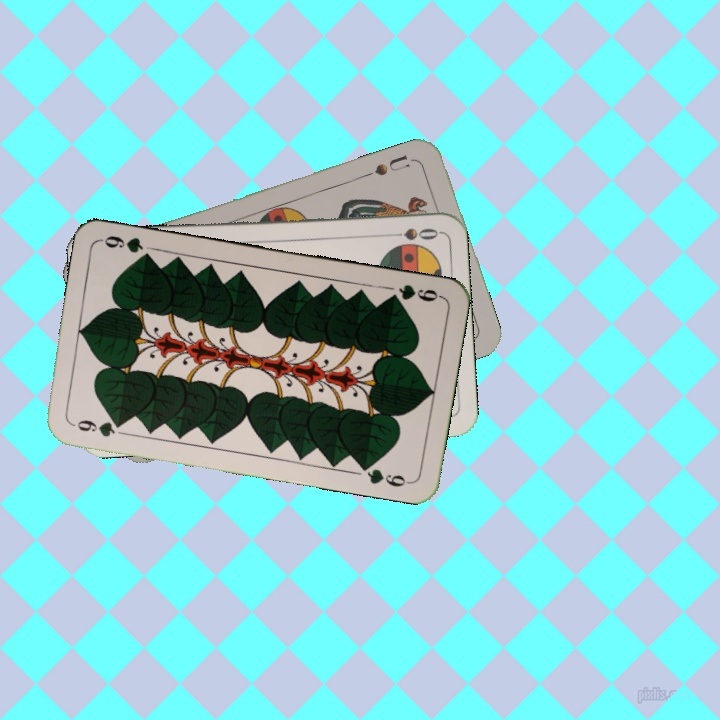G9: (383, 280, 444, 304), (68, 415, 126, 440)
SO: (382, 224, 441, 243)
SU: (370, 150, 412, 178)
